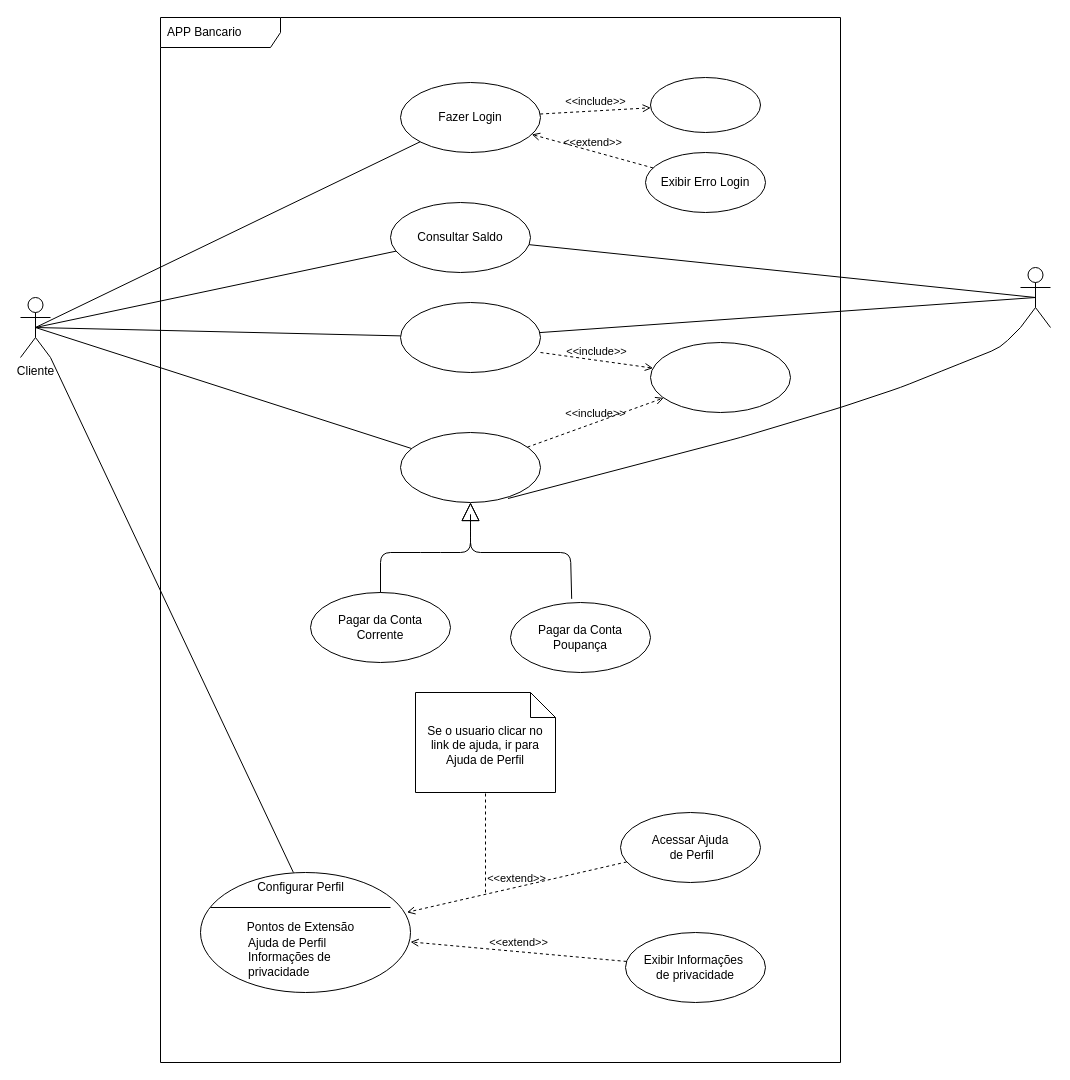
The diagram is 1070 pixels wide and 1080 high, and some of its shapes have lost their labels. The centre of each missing label's shape, as x and y in pixels:
Banco: point 1035,297
Fazer Pagamento: point 470,467
Fazer Transferencia: point 470,337
Verificar Saldo Disponivel: point 720,377
Verificar Senha: point 705,104
